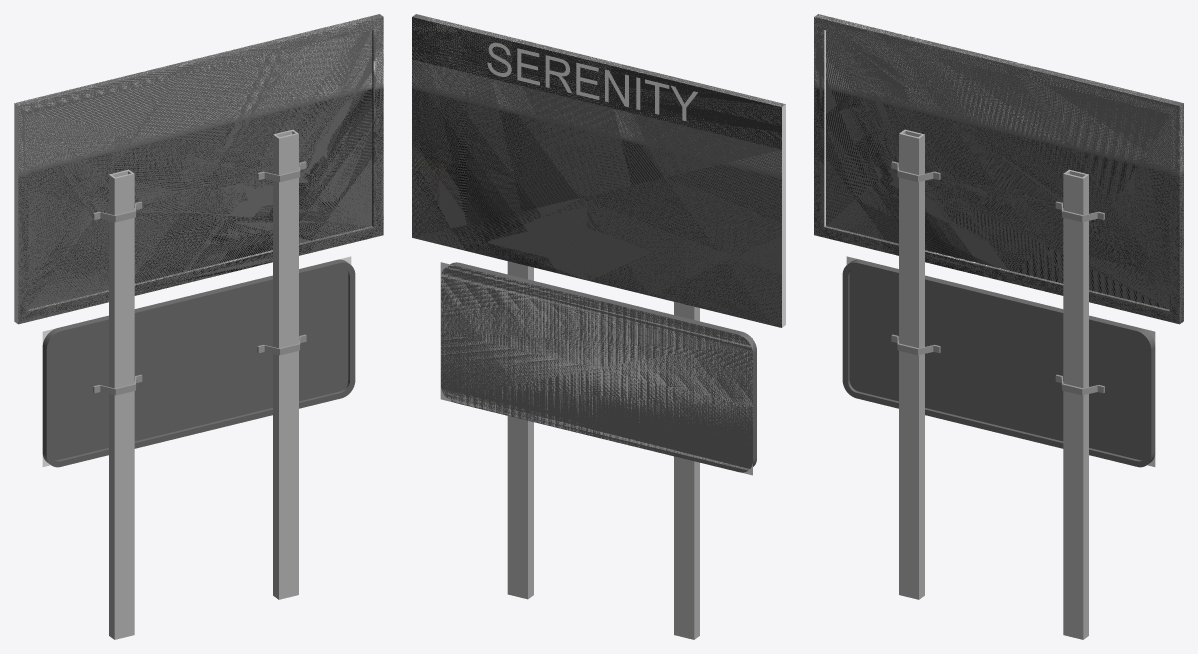
File: signalVillage.dae
The picture shows the model from 3 angles, left to right: view 1: azimuth 30°, elevation 25°; view 2: azimuth 150°, elevation 25°; view 3: azimuth 330°, elevation 25°; orthographic projection.
Visible parts, largest first — view 1: serenityrocket (×3), villageetapesignal (×2), SketchUp (×2); view 2: serenityrocket (×3), villageetapesignal, image_1, SketchUp (×2); view 3: serenityrocket (×2), villageetapesignal (×2), SketchUp (×2).
Part boxes in pixels (x1=…): serenityrocket (×3): x1=14, y1=14, x2=383, y2=324; villageetapesignal (×2): x1=42, y1=259, x2=355, y2=467; SketchUp (×2): x1=109, y1=129, x2=298, y2=639; serenityrocket (×3): x1=412, y1=14, x2=785, y2=327; villageetapesignal: x1=441, y1=262, x2=756, y2=472; image_1: x1=440, y1=262, x2=752, y2=475; SketchUp (×2): x1=507, y1=261, x2=699, y2=639; serenityrocket (×2): x1=814, y1=14, x2=1183, y2=324; villageetapesignal (×2): x1=842, y1=259, x2=1155, y2=467; SketchUp (×2): x1=899, y1=129, x2=1088, y2=639.
Bounding box in the file's own units: 71.85 × 3.75 × 104.
8 materials, 2 textured.
